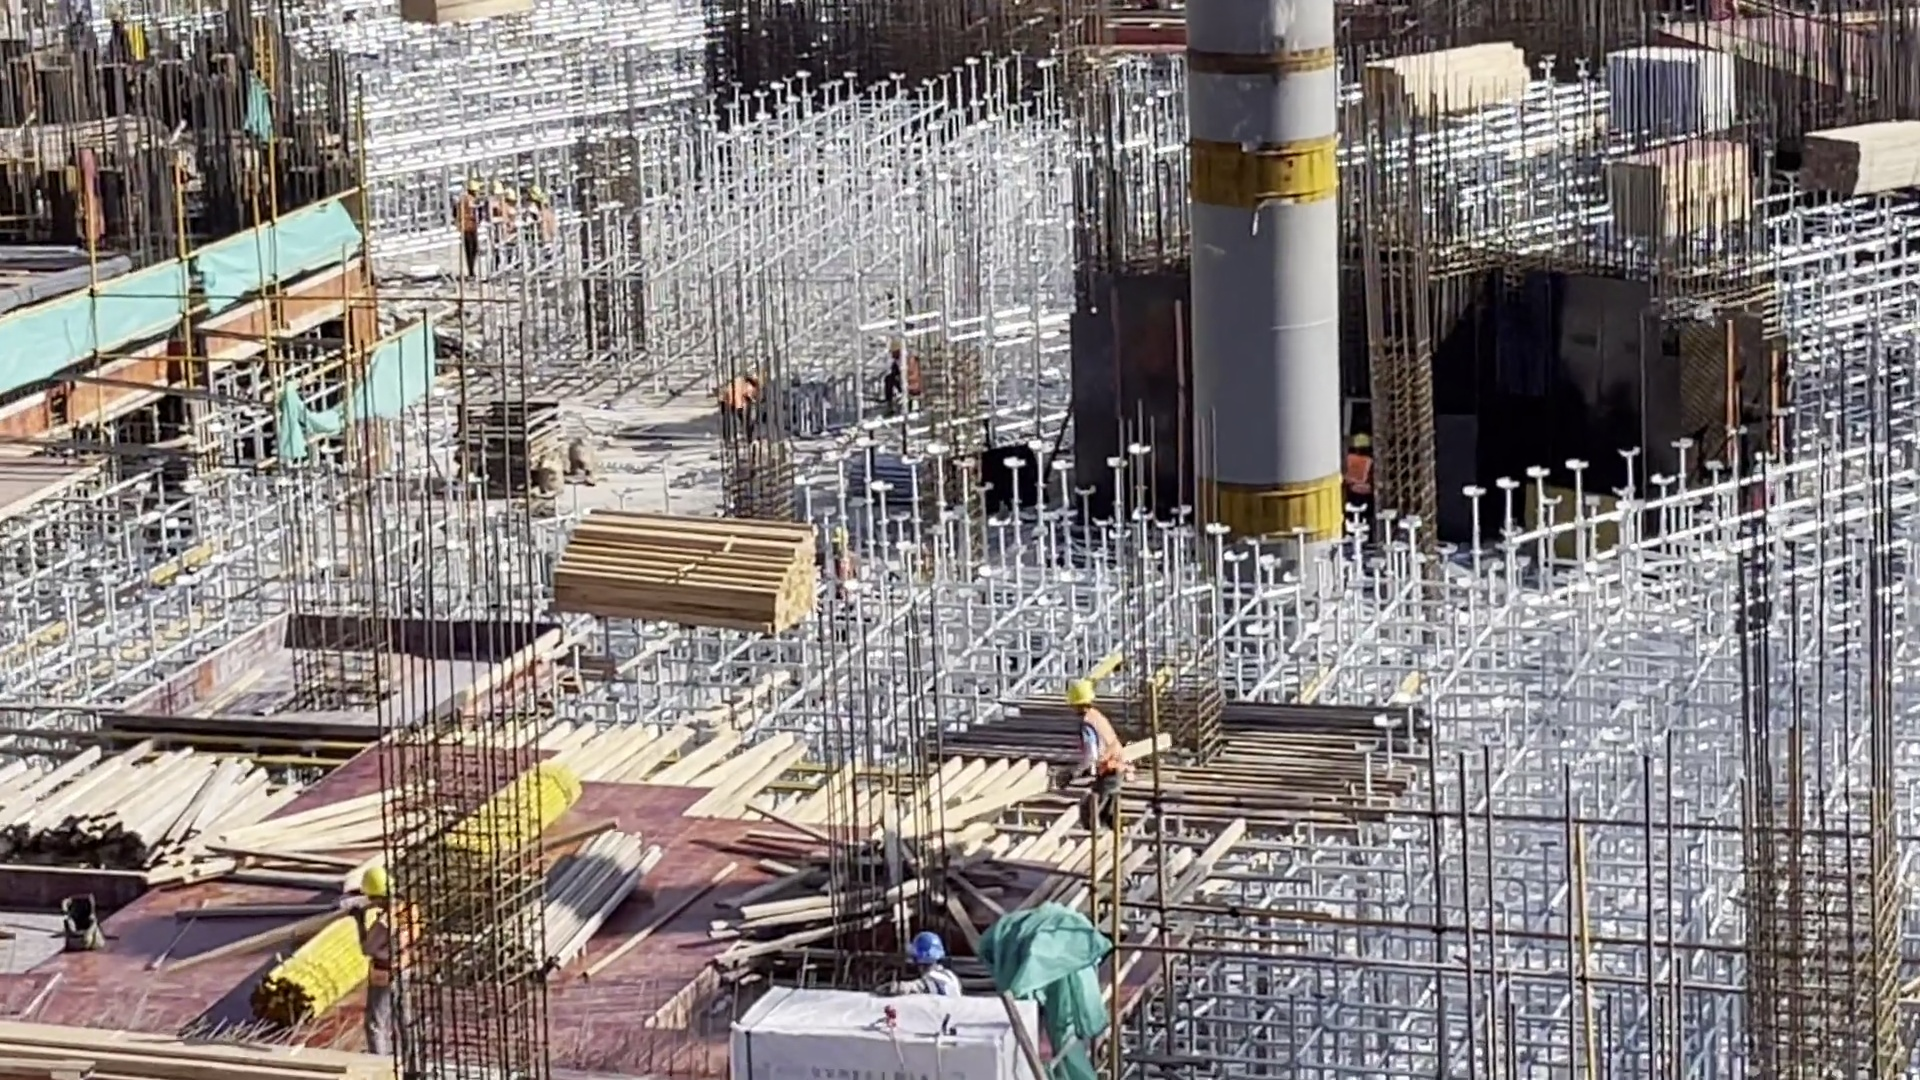board: (1605, 139, 1753, 242)
helmet: (353, 865, 390, 903), (904, 934, 950, 964), (1061, 682, 1096, 708), (1350, 433, 1372, 452)
person: (1056, 674, 1126, 830), (360, 864, 420, 1043), (884, 930, 967, 1000), (710, 367, 764, 443), (823, 522, 860, 606), (1339, 432, 1373, 506), (456, 188, 482, 281), (496, 191, 523, 231), (523, 190, 543, 223)
vest: (1078, 709, 1122, 775), (1338, 455, 1372, 498)
wood: (1, 729, 272, 894), (546, 505, 828, 633), (1367, 32, 1536, 128), (1798, 115, 1920, 202), (399, 1, 543, 31)
